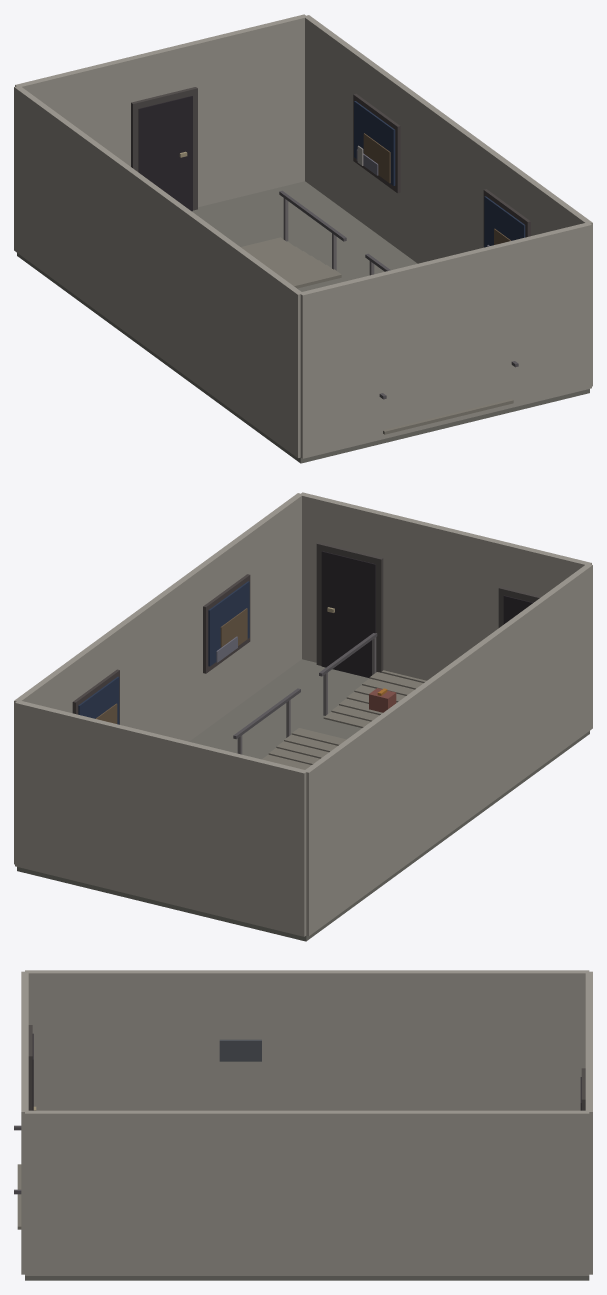
File: escaleraServicio.obj
The picture shows the model from 3 angles, top to bottom: view 1: azimuth 30°, elevation 25°; view 2: azimuth 150°, elevation 25°; view 3: azimuth 270°, elevation 25°; orthographic projection.
Visible parts, largest first — view 1: escaleraServicio_c2_10, escaleraServicio_c2_12, escaleraServicio_c2_11, escaleraServicio_c2_13, escaleraServicio_c2_9, escaleraServicio_c2_17, escaleraServicio_c2_15, escaleraServicio_c2_16, escaleraServicio_c2_73, escaleraServicio_c2_77, escaleraServicio_c2_72, escaleraServicio_c2_74 (+1 smaller); view 2: escaleraServicio_c2_13, escaleraServicio_c2_10, escaleraServicio_c2_11, escaleraServicio_c2_12, escaleraServicio_c2_9, escaleraServicio_c2_15, escaleraServicio_c2_21, escaleraServicio_c2_20, escaleraServicio_c2_77, escaleraServicio_c2_76, escaleraServicio_c2_73, escaleraServicio_c2_78; view 3: escaleraServicio_c2_11, escaleraServicio_c2_10, escaleraServicio_c2_9, escaleraServicio_c2_13, escaleraServicio_c2_12, escaleraServicio_c2_82, escaleraServicio_c2_24.
Part boxes in pixels (<box>): escaleraServicio_c2_10: <box>14,85,302,457</box>; escaleraServicio_c2_12: <box>299,222,591,458</box>; escaleraServicio_c2_11: <box>303,15,592,386</box>; escaleraServicio_c2_13: <box>15,14,307,206</box>; escaleraServicio_c2_9: <box>17,181,589,463</box>; escaleraServicio_c2_17: <box>138,96,192,211</box>; escaleraServicio_c2_15: <box>198,152,304,206</box>; escaleraServicio_c2_16: <box>131,87,197,210</box>; escaleraServicio_c2_73: <box>354,101,395,185</box>; escaleraServicio_c2_77: <box>484,196,525,247</box>; escaleraServicio_c2_72: <box>353,93,400,193</box>; escaleraServicio_c2_74: <box>363,133,390,183</box>; escaleraServicio_c2_13: <box>15,700,306,936</box>; escaleraServicio_c2_10: <box>304,563,592,935</box>; escaleraServicio_c2_11: <box>14,493,302,864</box>; escaleraServicio_c2_12: <box>300,492,591,680</box>; escaleraServicio_c2_9: <box>17,659,589,941</box>; escaleraServicio_c2_15: <box>15,837,306,936</box>; escaleraServicio_c2_21: <box>321,551,375,678</box>; escaleraServicio_c2_20: <box>316,542,383,672</box>; escaleraServicio_c2_77: <box>208,581,249,666</box>; escaleraServicio_c2_76: <box>203,574,250,673</box>; escaleraServicio_c2_73: <box>78,676,119,724</box>; escaleraServicio_c2_78: <box>220,608,247,647</box>; escaleraServicio_c2_11: <box>25,1110,589,1275</box>; escaleraServicio_c2_10: <box>25,970,589,1110</box>; escaleraServicio_c2_9: <box>25,1276,589,1280</box>; escaleraServicio_c2_13: <box>585,971,592,1274</box>; escaleraServicio_c2_12: <box>21,971,28,1274</box>; escaleraServicio_c2_82: <box>219,1039,261,1061</box>; escaleraServicio_c2_24: <box>28,1025,32,1110</box>.
Bounding box in the file's own units: 10.2 × 5.6 × 17.44.
